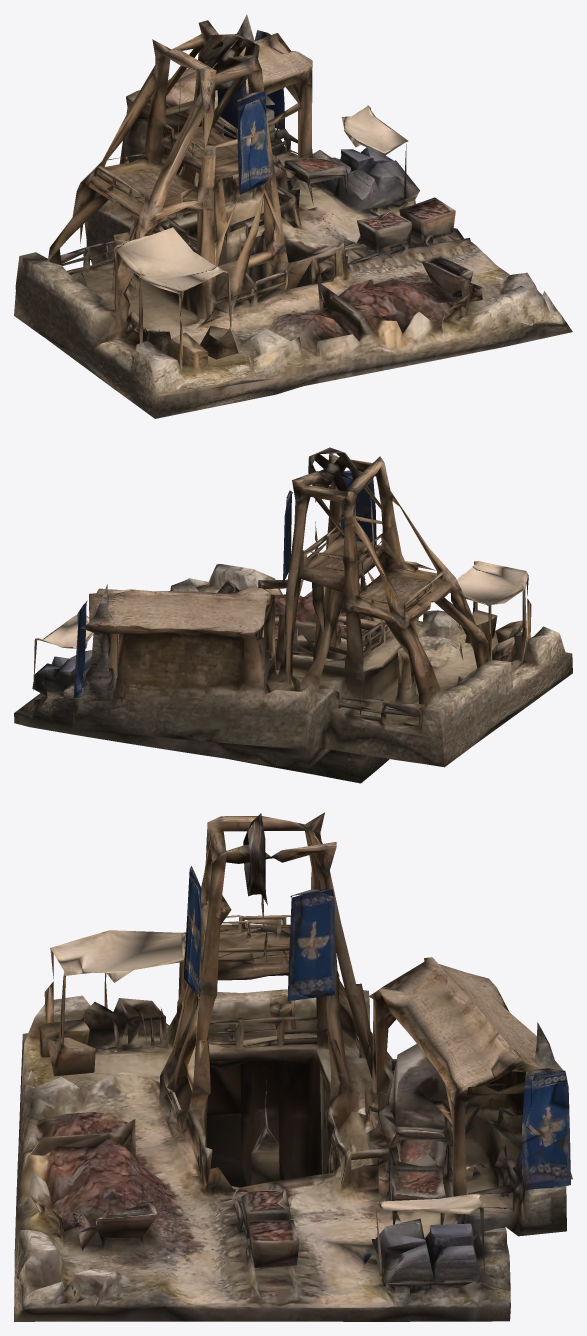
File: iron_mine_2.glb
The picture shows the model from 3 angles, top to bottom: view 1: azimuth 30°, elevation 25°; view 2: azimuth 150°, elevation 25°; view 3: azimuth 270°, elevation 25°; orthographic projection. The views are drawn at different scales.
Parts seen in each view (by area): view 1: tripo_node_5fe4f328-48e1-42d0-8d92-9fb97b0a50ed; view 2: tripo_node_5fe4f328-48e1-42d0-8d92-9fb97b0a50ed; view 3: tripo_node_5fe4f328-48e1-42d0-8d92-9fb97b0a50ed.
Boxes of the visible parts, x1,y1,x2,y2 form: tripo_node_5fe4f328-48e1-42d0-8d92-9fb97b0a50ed: (14, 14, 572, 418); tripo_node_5fe4f328-48e1-42d0-8d92-9fb97b0a50ed: (14, 447, 572, 783); tripo_node_5fe4f328-48e1-42d0-8d92-9fb97b0a50ed: (14, 812, 572, 1321).
Bounding box in the file's own units: 0.9786 × 0.7407 × 0.9283.
Materials: 1 (1 with a texture image).
